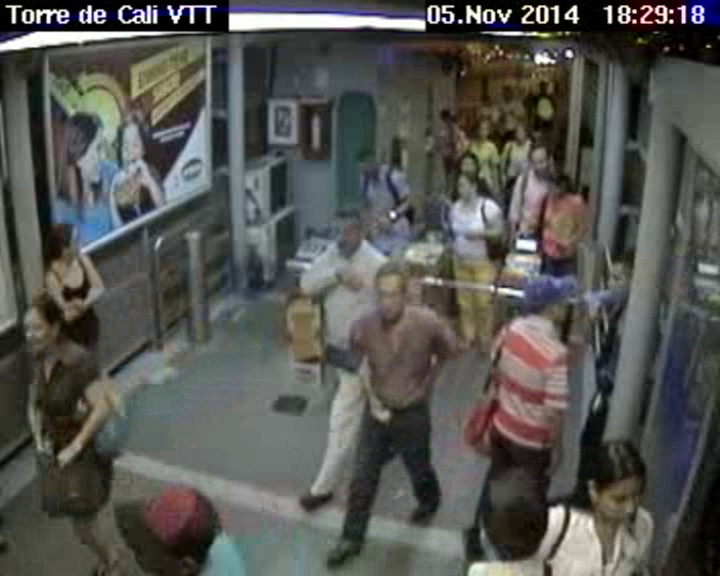person: (109, 479, 232, 576), (467, 452, 551, 565), (579, 436, 652, 531), (13, 295, 69, 357), (364, 260, 412, 322), (520, 273, 575, 326), (41, 221, 99, 267), (603, 251, 641, 301), (324, 210, 362, 253), (452, 172, 483, 211), (354, 148, 380, 181), (528, 141, 549, 176), (470, 116, 492, 144), (457, 150, 479, 176), (551, 170, 568, 202), (436, 108, 457, 129), (514, 120, 529, 149), (527, 127, 544, 152), (499, 83, 519, 103), (535, 80, 550, 94), (478, 93, 491, 107)
